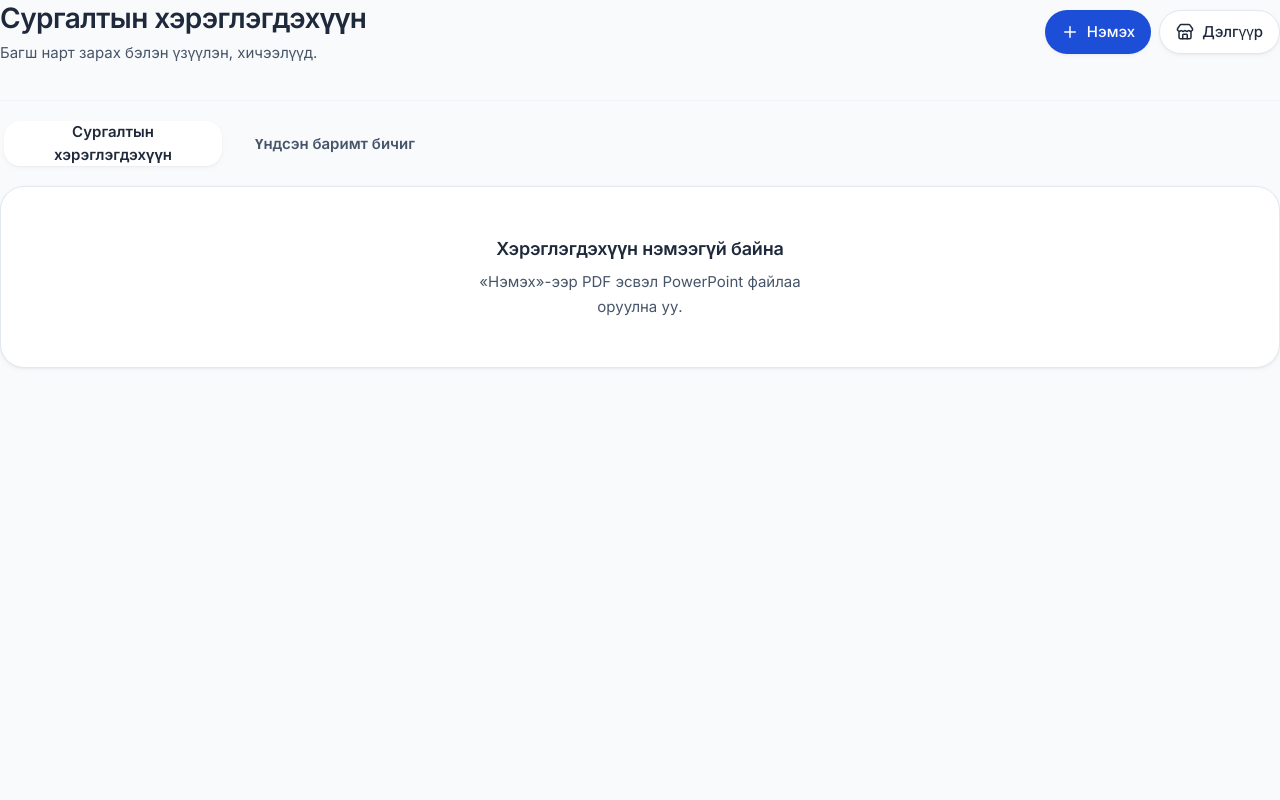
the platform's teaching materials › takes the price in whole tögrög only
The width and height of the screenshot is (1280, 800).
Click the button "Нэмэх" at (1098, 32), box [1045, 10, 1151, 54]
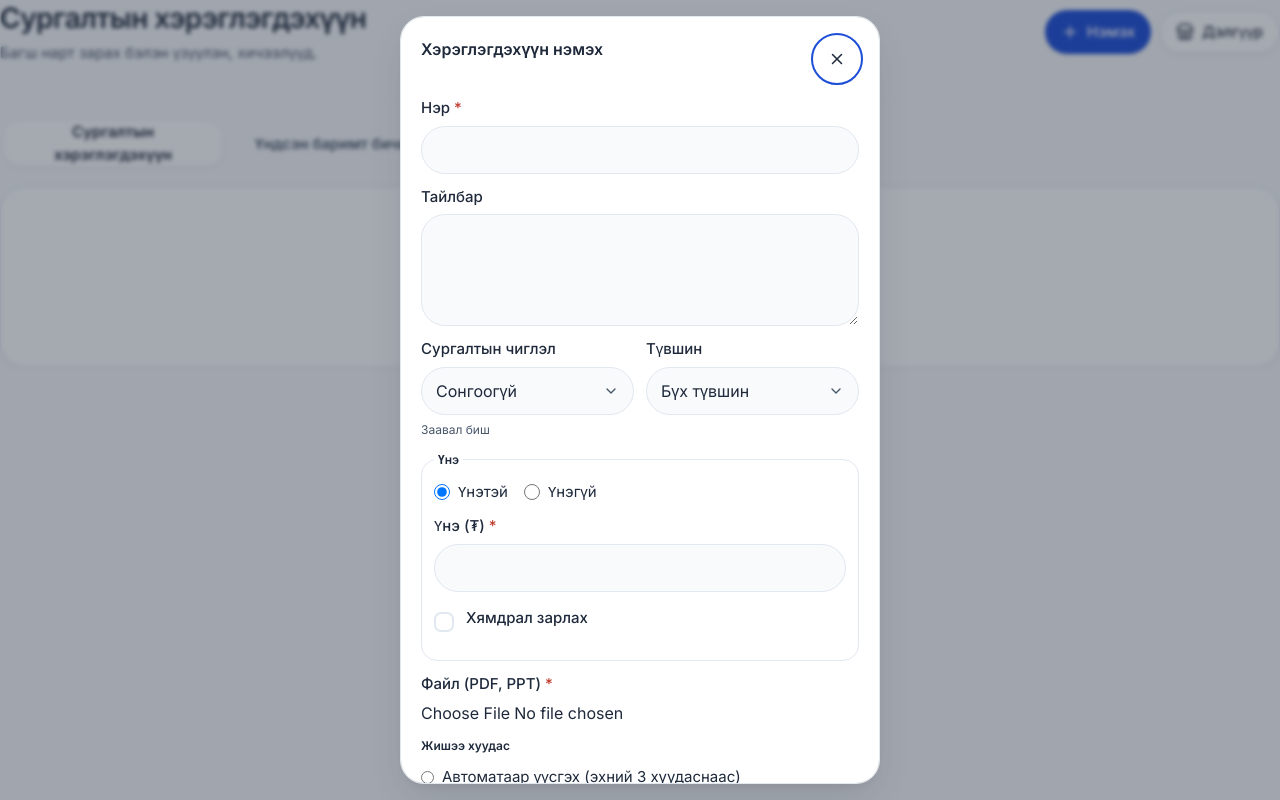
Type "Тоо 1–5" into the field labelled "Нэр *" at (640, 150), box [421, 126, 859, 174]
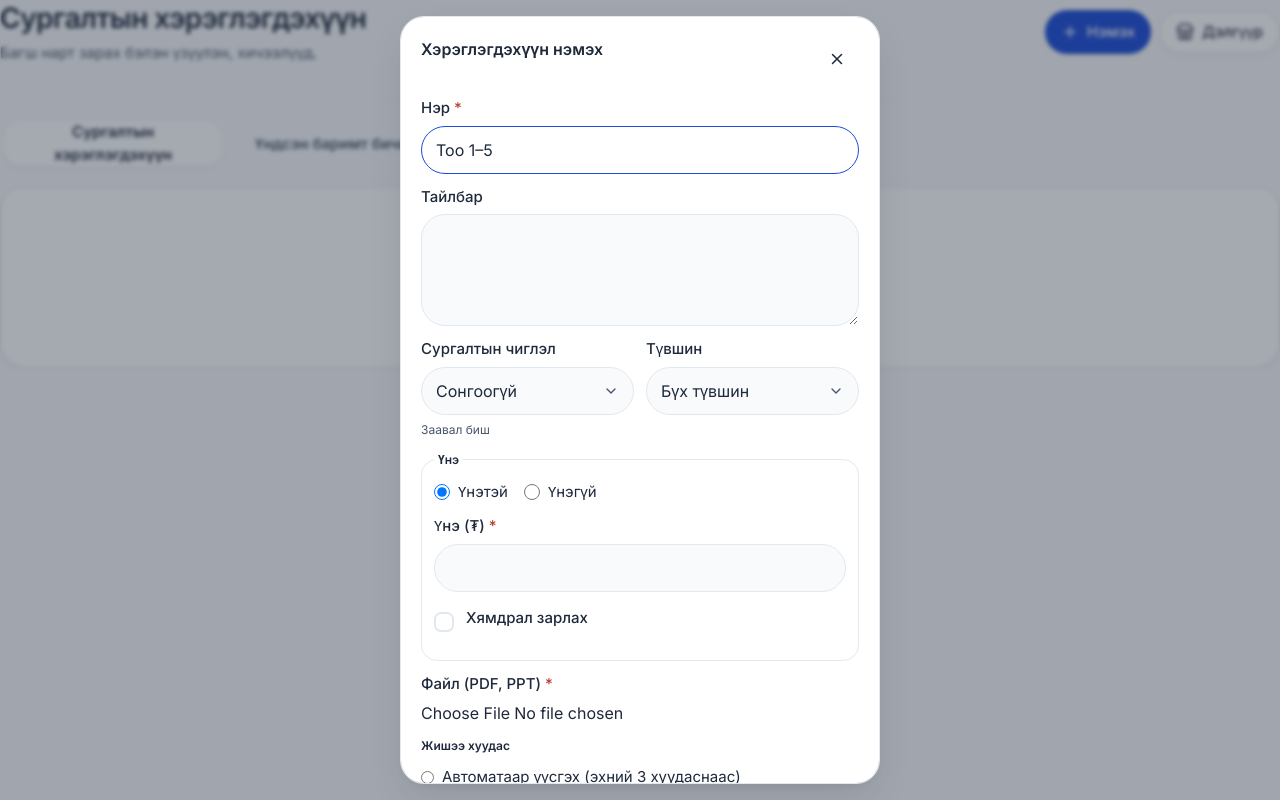
Click the dropdown named "Сургалтын чиглэл" at (528, 390), box [421, 366, 634, 414]
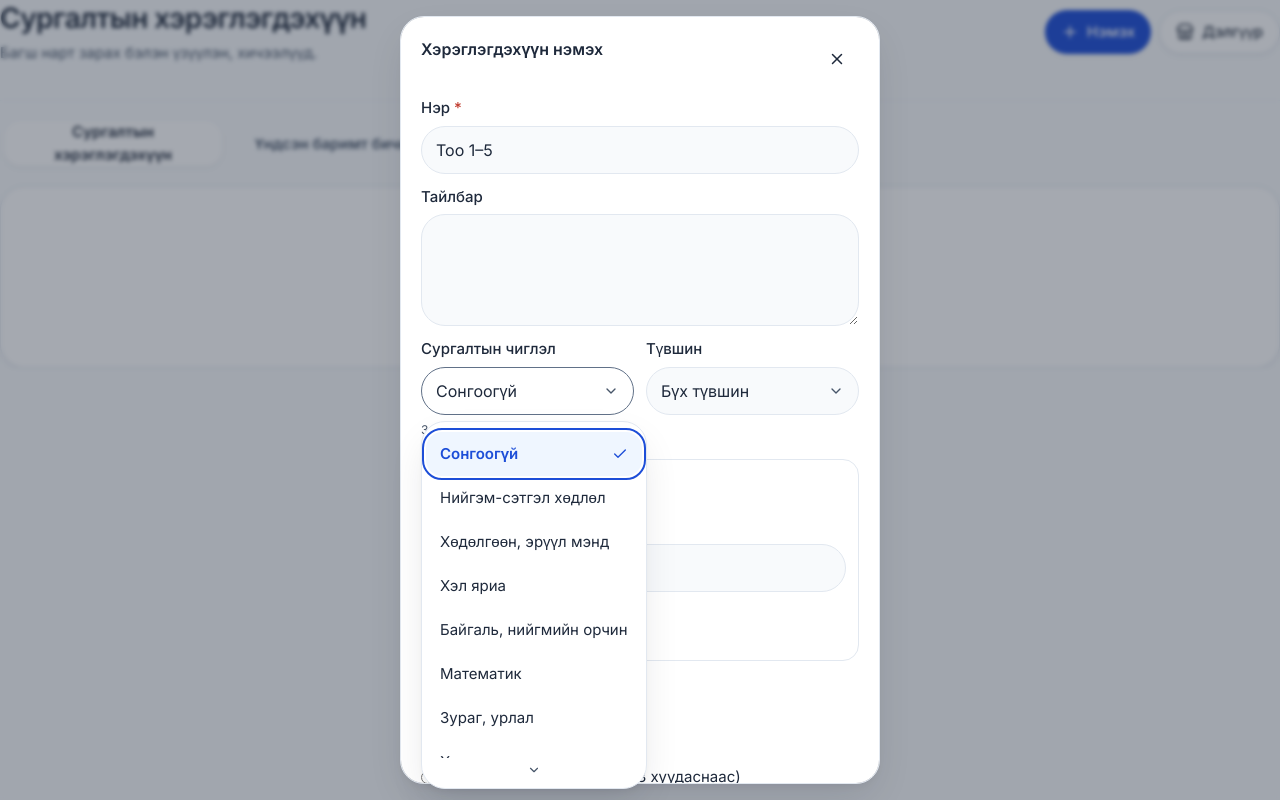
Click the option "Зураг, урлал" at (487, 717), box [440, 708, 534, 727]
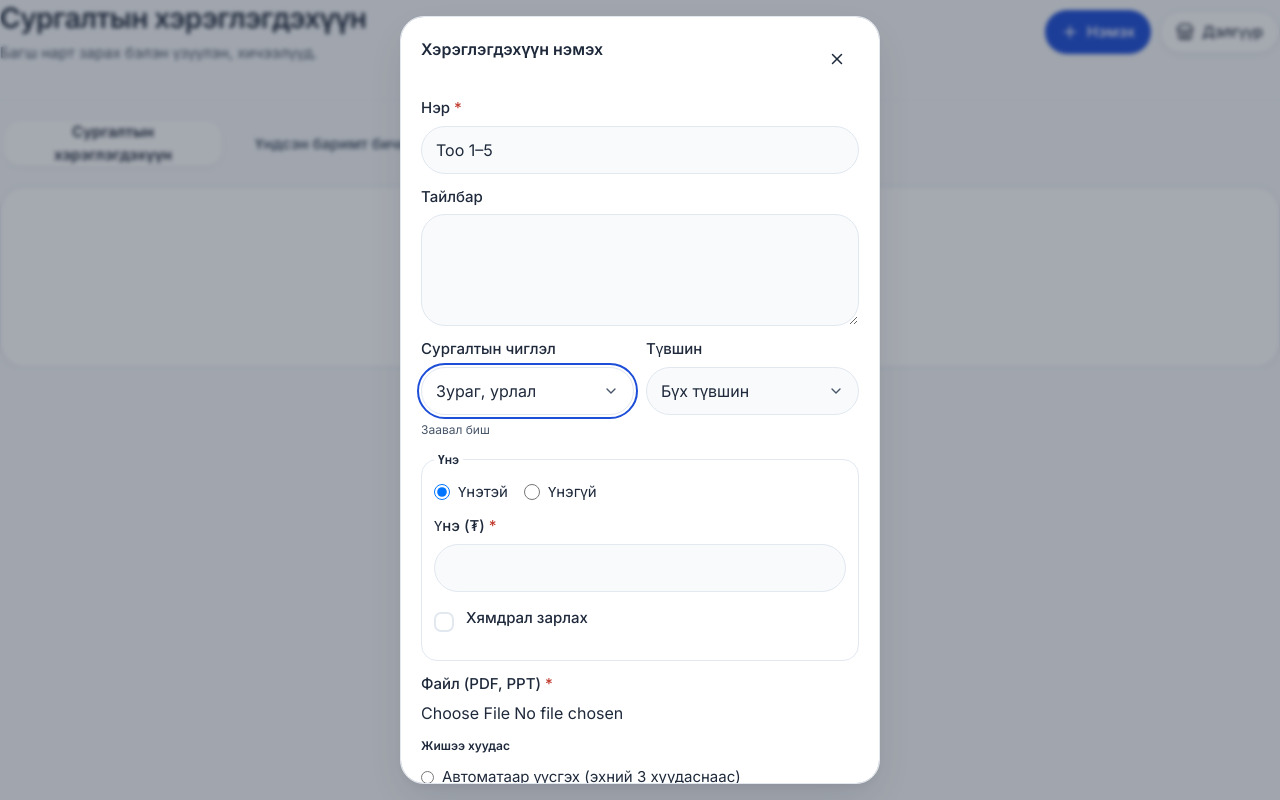
Type "12000.50" into the field labelled "Үнэ (₮) *" at (640, 568), box [434, 544, 846, 592]
(page scrolled)
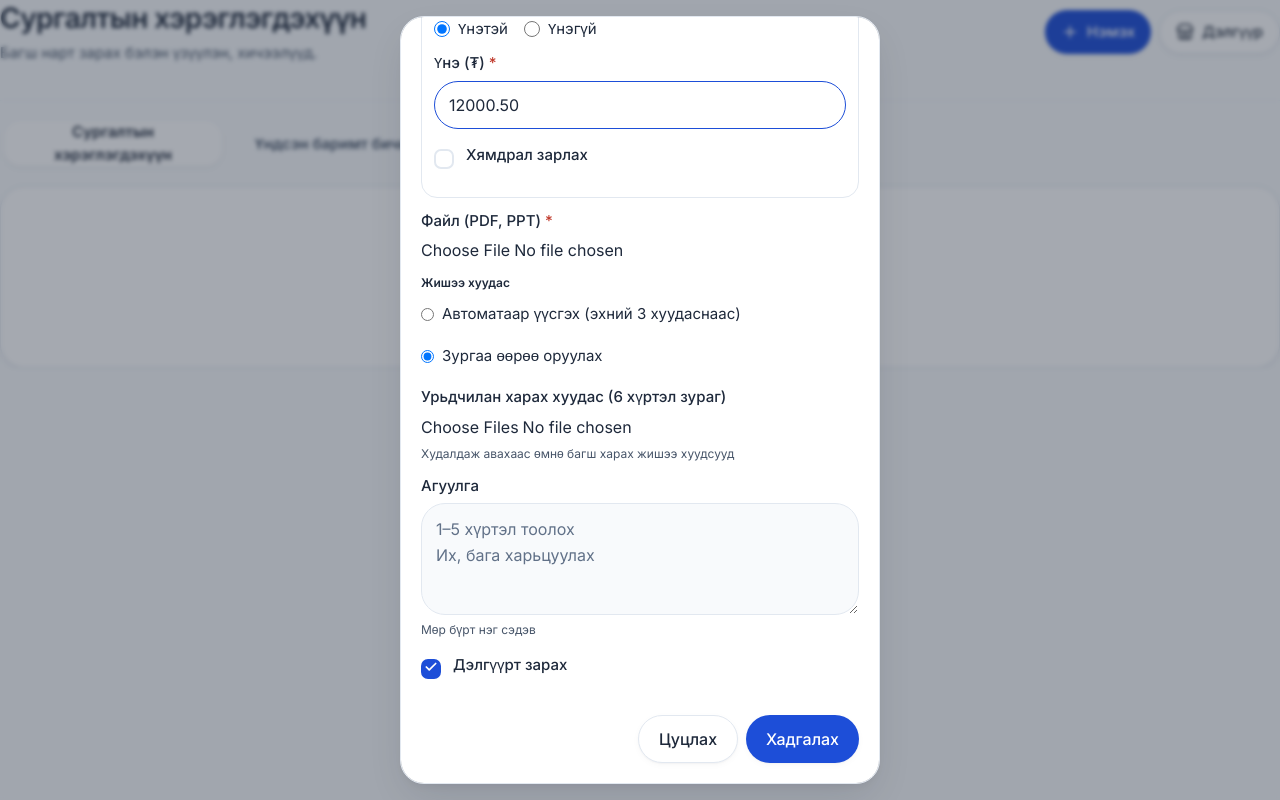
Click the button "Хадгалах" at (803, 739), box [746, 715, 859, 763]
(page scrolled)
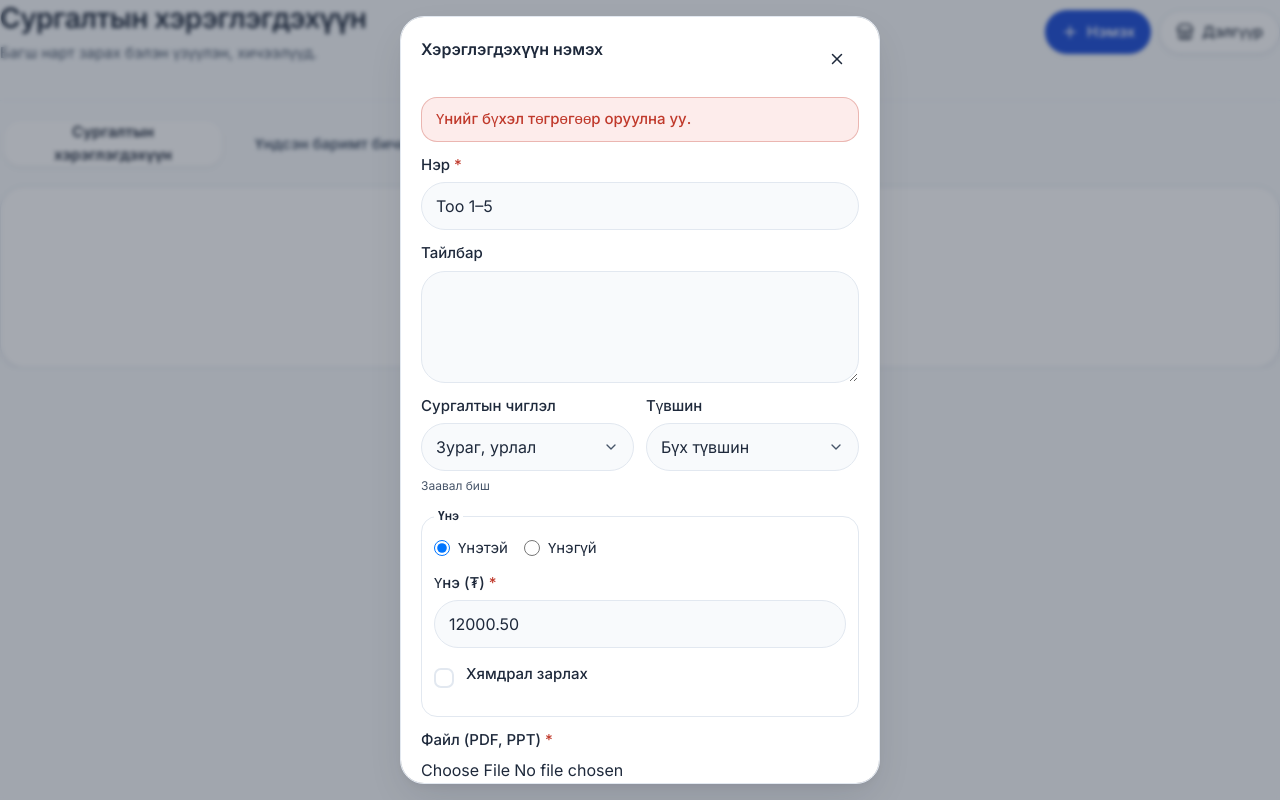
expect the text "Үнийг бүхэл төгрөгөөр оруулна уу." is shown: met, box [421, 97, 859, 142]
